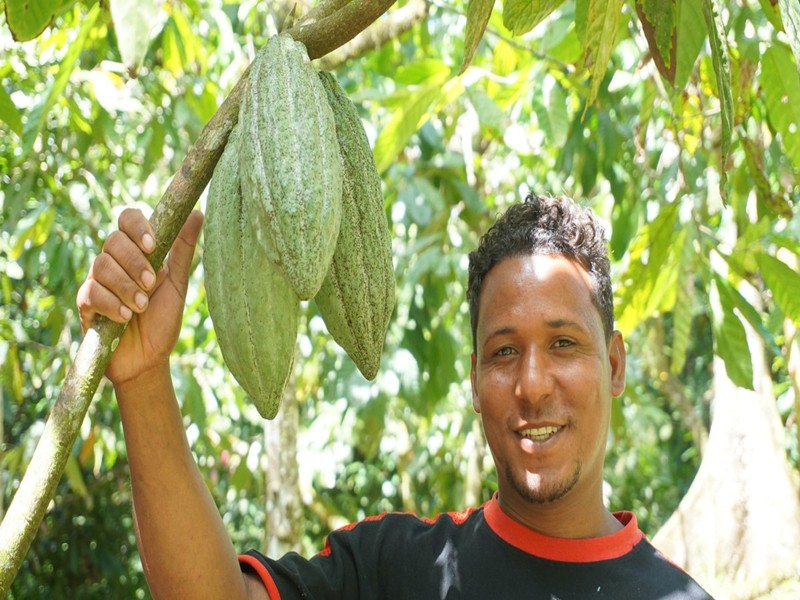Cacaopod: (245, 34, 339, 296)
